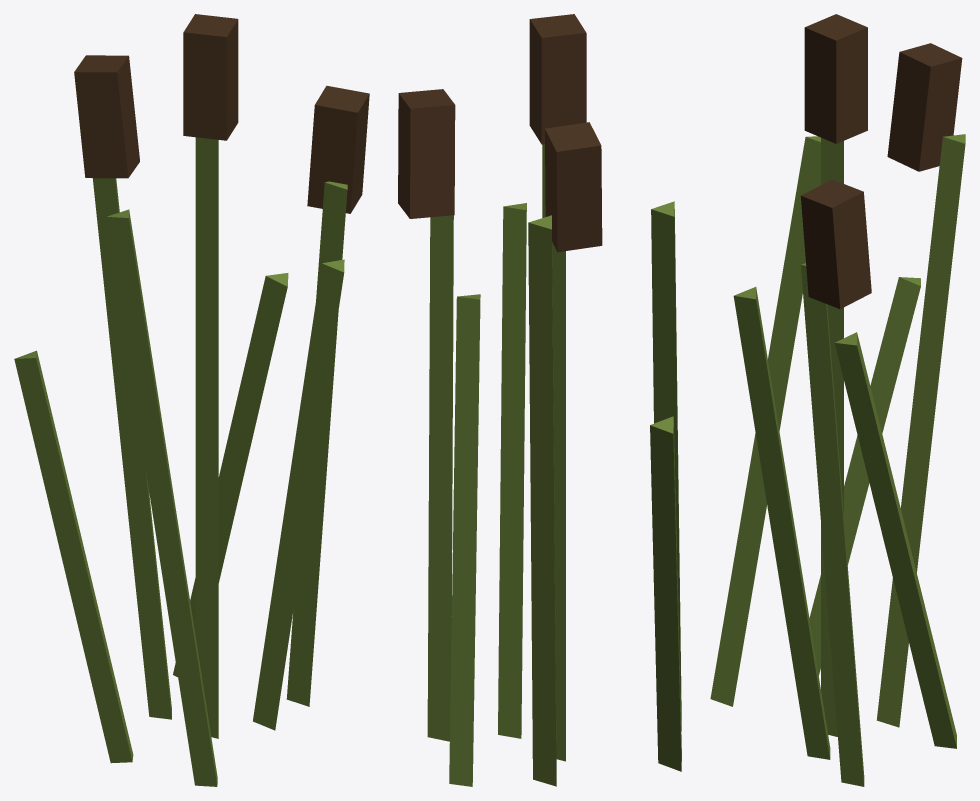
Rendered from reeds.fbx.
3 views of the same model, side by side, from view 1: azimuth 30°, elevation 25°; view 2: azimuth 150°, elevation 25°; view 3: azimuth 270°, elevation 25° (orthographic). The views are drawn at different scales.
Visible parts, largest first — view 1: Prop; view 2: Prop; view 3: Prop.
Part boxes in pixels (<box>): Prop: <box>14,14,369,786</box>; Prop: <box>398,14,681,786</box>; Prop: <box>710,14,965,786</box>.
Bounding box in the file's own units: 0.2828 × 0.2015 × 0.6151.
